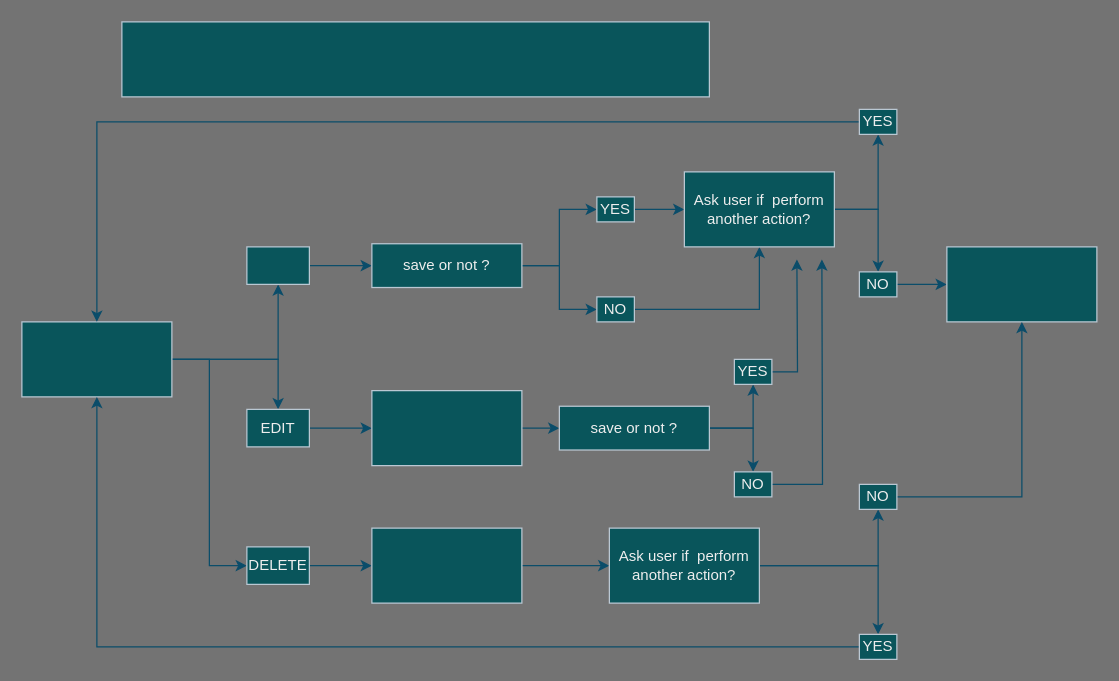
This 1119x681 diagram has some shape labels left out. The box of each missing label's shape, as (x1, y1, x2, y2) in pixels:
ADD: (246, 246, 309, 284)
ALLOW USER TO PICK TO DO TO EDIT: (371, 389, 522, 466)
ALLOW USER TO PICK WHICH TO DO TO DELETE: (371, 527, 522, 603)
Ask user add/delete/edit to do: (21, 321, 172, 397)
EXIT PROGRAM: (946, 246, 1097, 322)
user should be able to add/edit/remove to do tasks: (121, 21, 709, 97)
